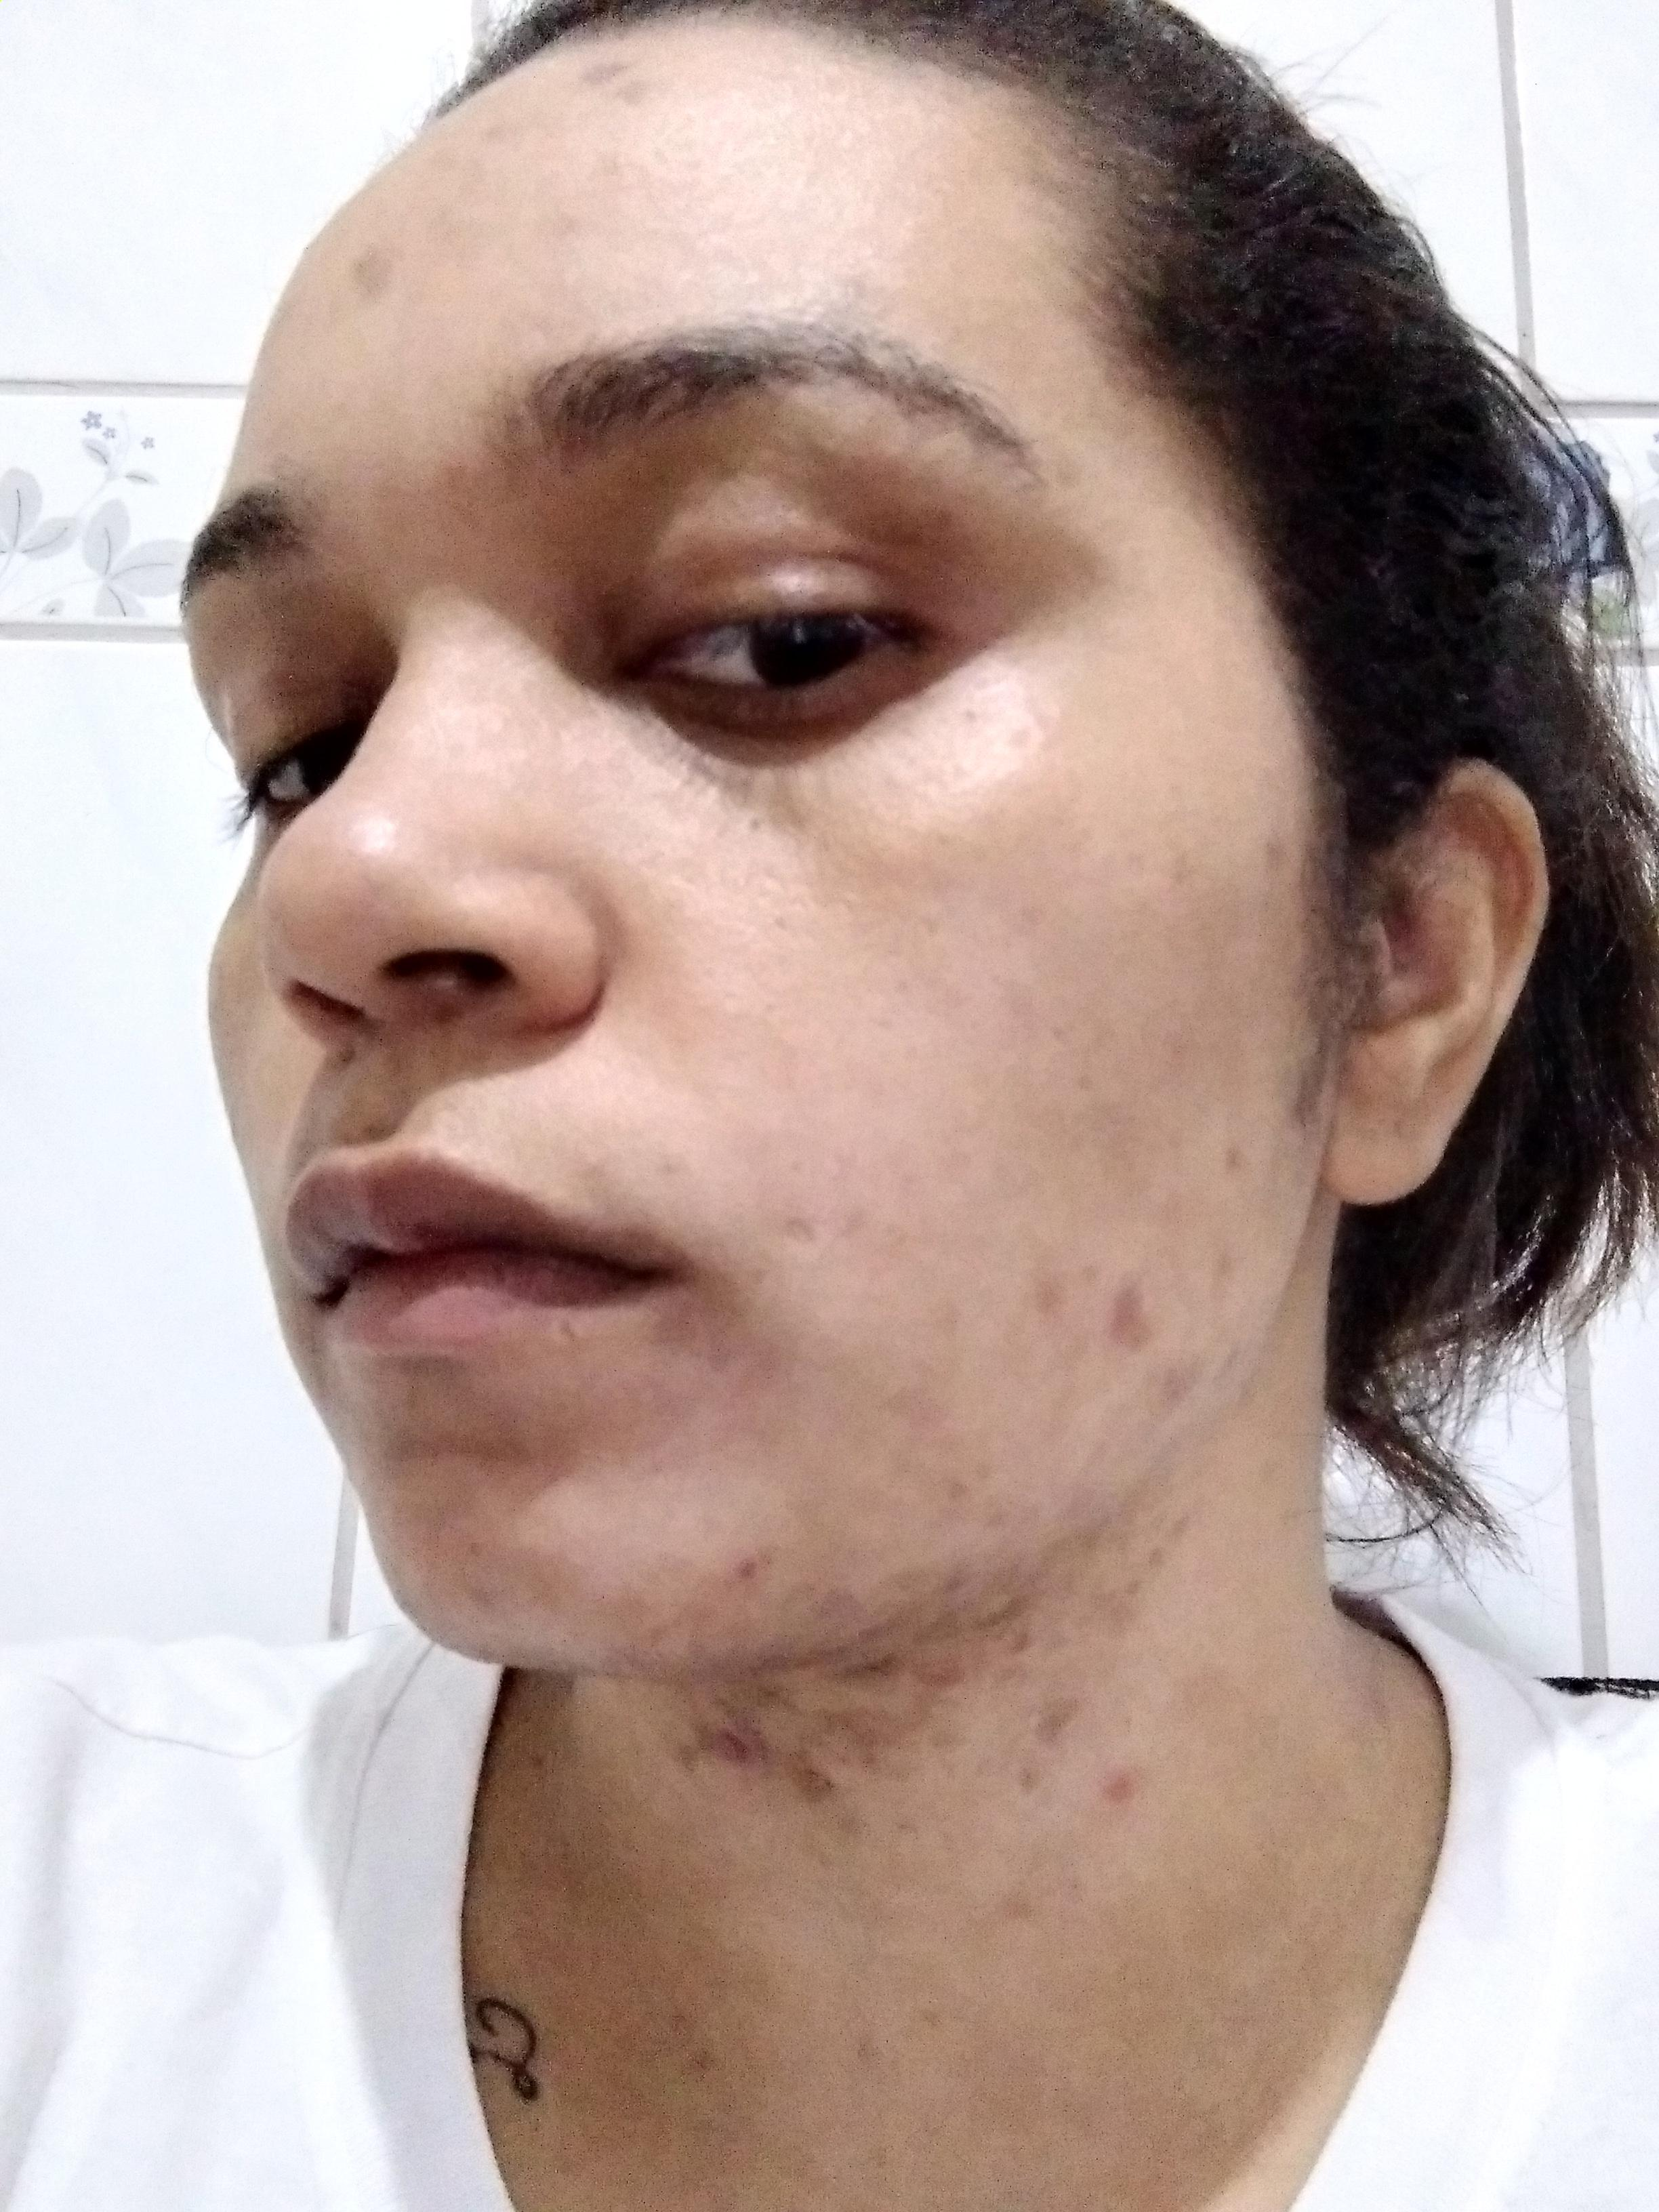Acne: (1098, 1270, 1197, 1371), (647, 1597, 741, 1674), (1145, 1357, 1197, 1447), (863, 1561, 976, 1599), (328, 232, 397, 293), (727, 1534, 796, 1592), (467, 120, 545, 169), (1019, 1264, 1079, 1329), (866, 1372, 936, 1423), (1246, 824, 1300, 888), (1201, 1242, 1262, 1292), (587, 56, 647, 103), (457, 1524, 502, 1581), (932, 1472, 983, 1515), (1220, 1129, 1260, 1179)
